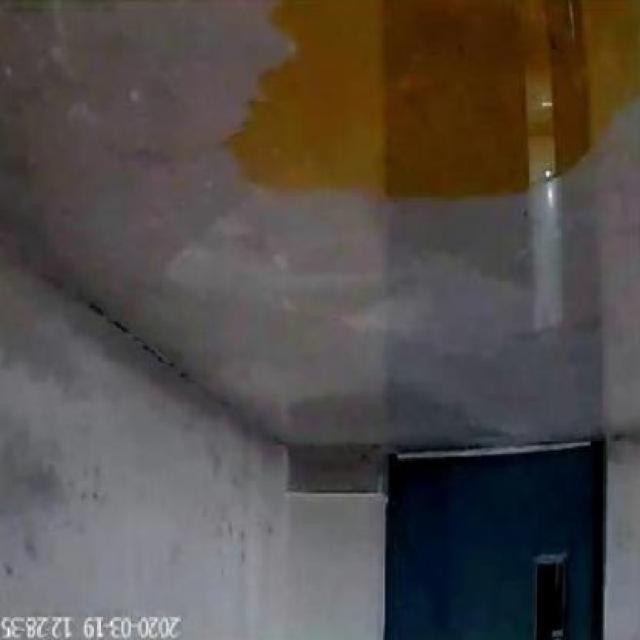spillage: (240, 0, 640, 198)
